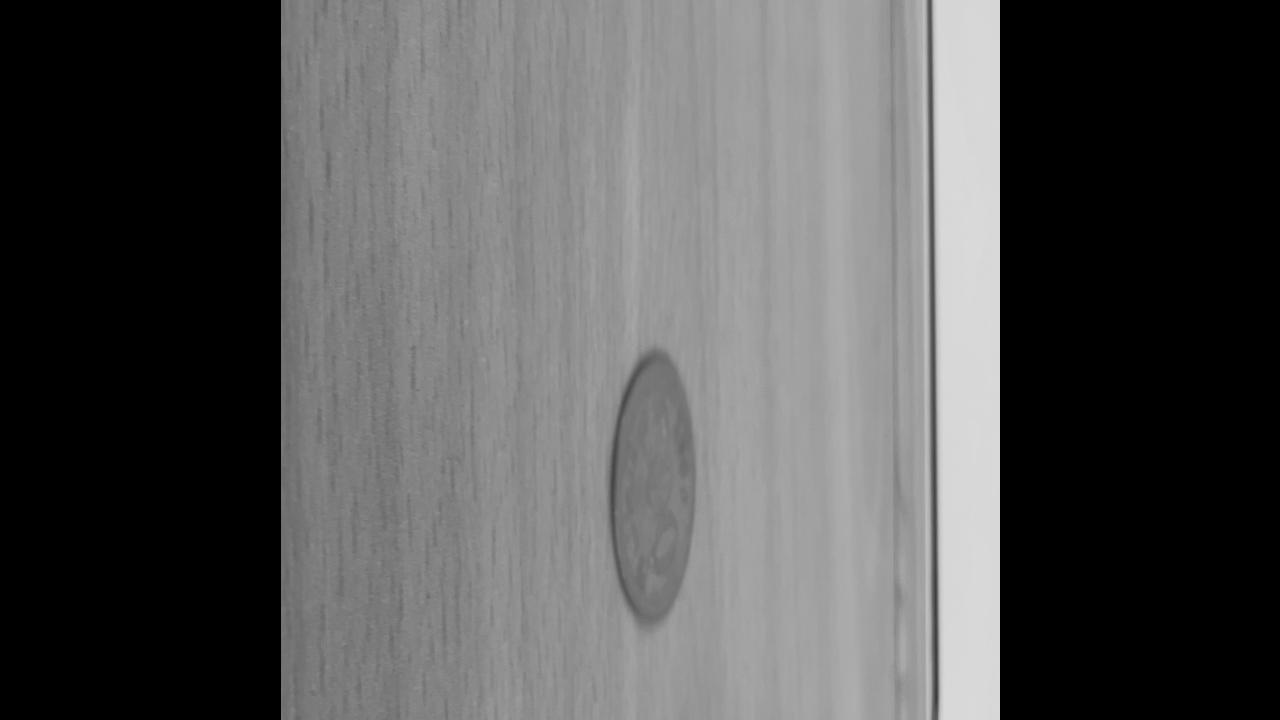coin: (609, 353, 697, 625)
